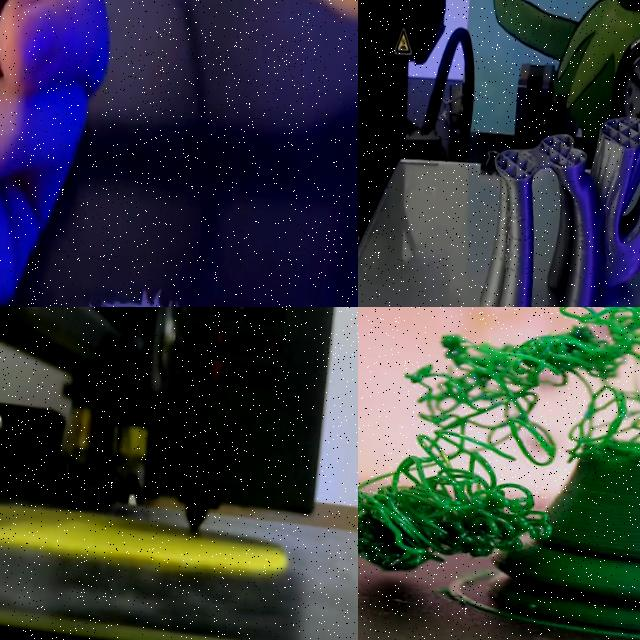spaghetti: (358, 307, 640, 572)
